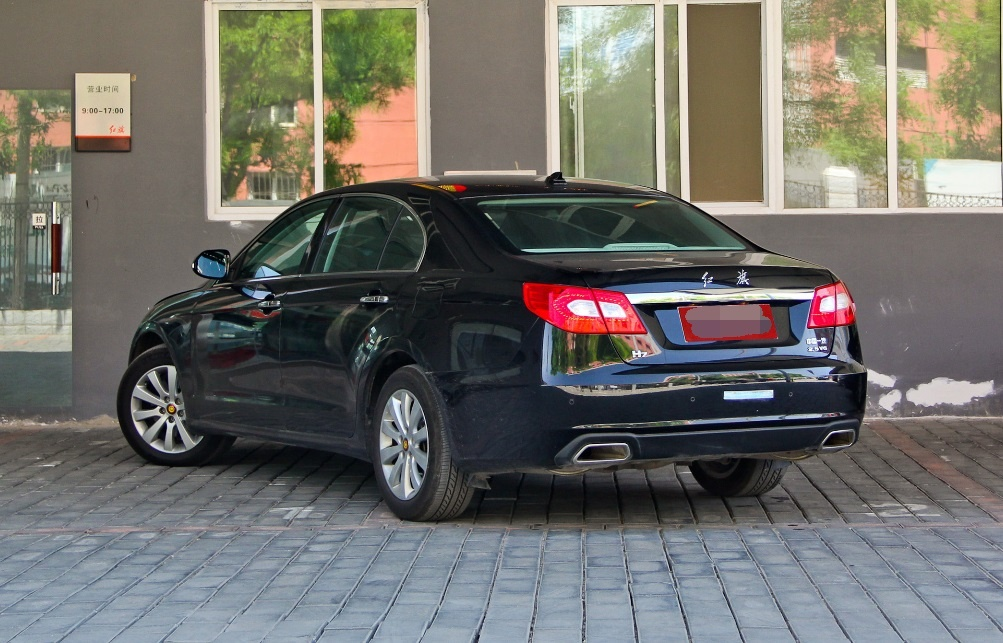family sedan: (110, 167, 866, 521)
